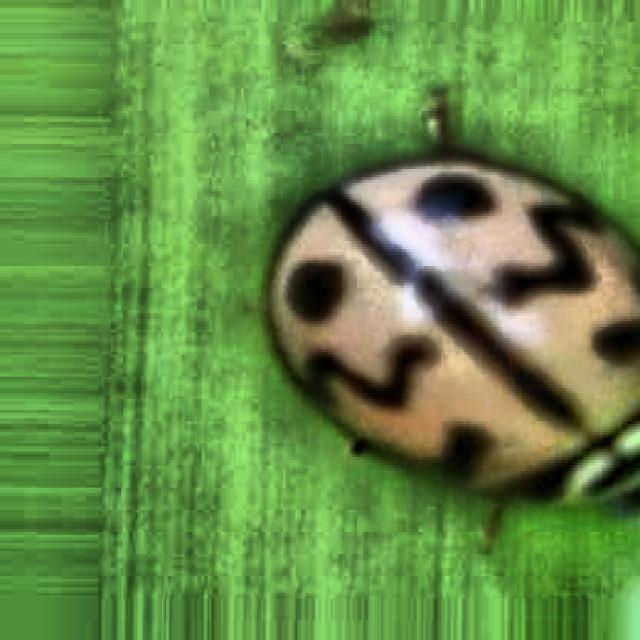Asian-Lady-beetle: (232, 65, 640, 640)
